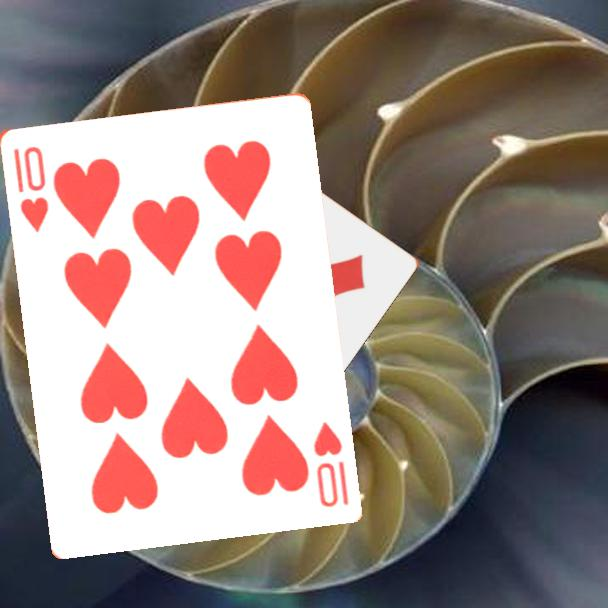h10: (9, 142, 51, 235), (309, 418, 351, 510)
